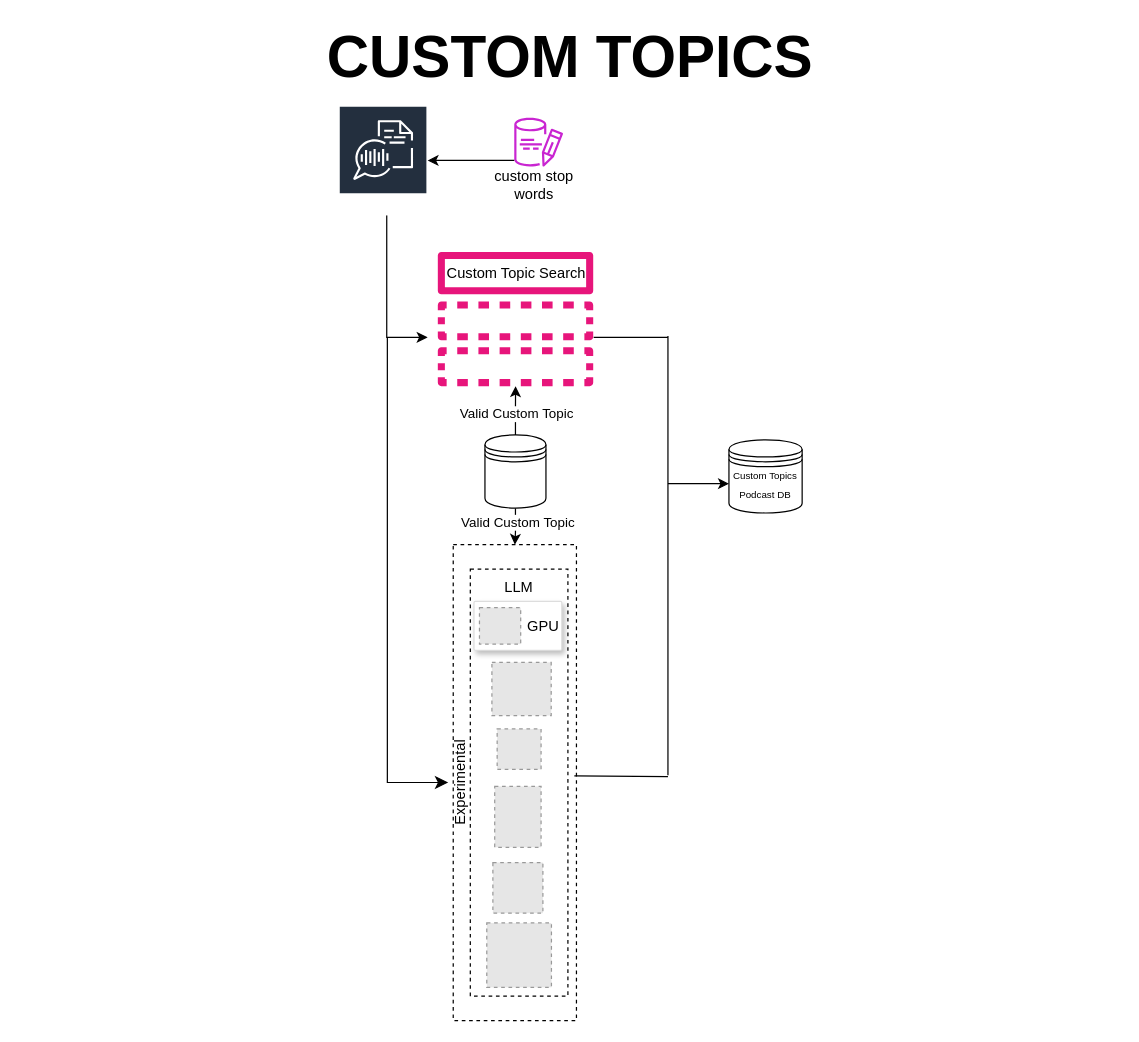
The diagram is 1139 pixels wide and 1042 high, and some of its shapes have lost their labels. Grey dashed boxes stand in for pictures. Each missing label, with the centre of its shape:
Custom Topics DB: (x=515, y=471)
Transcription: (x=382, y=159)
